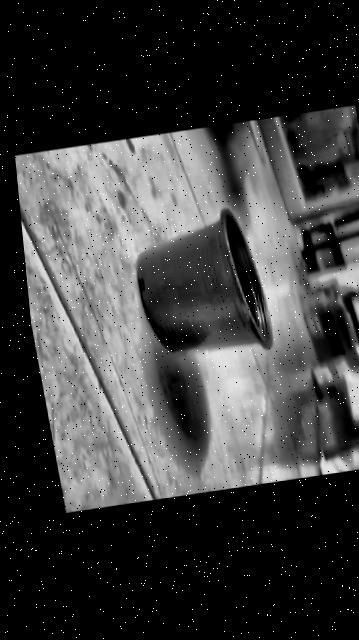pot: (126, 206, 274, 366)
